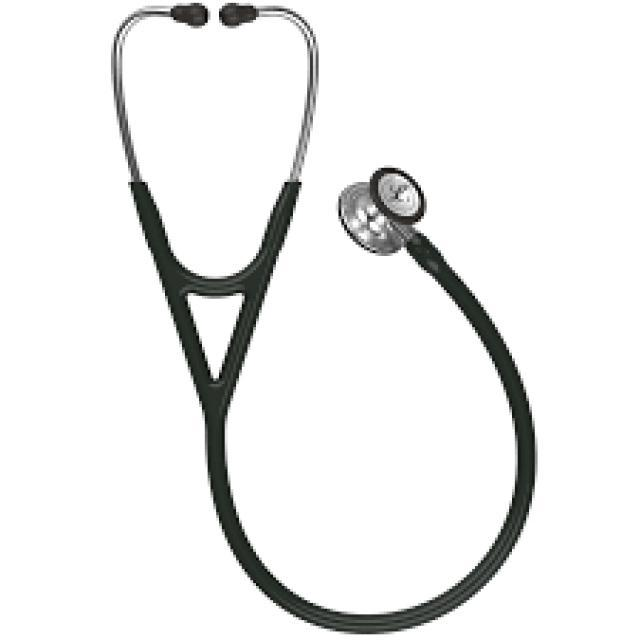stethoscope: (84, 3, 601, 626)
